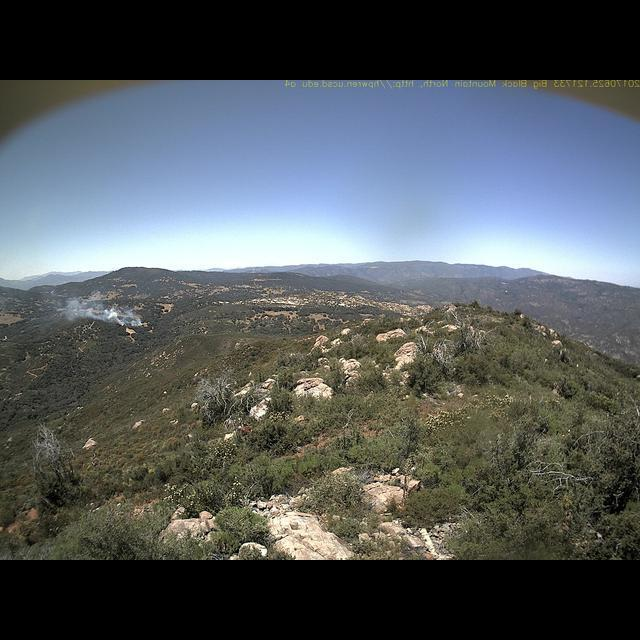Smoke: (60, 289, 145, 331)
